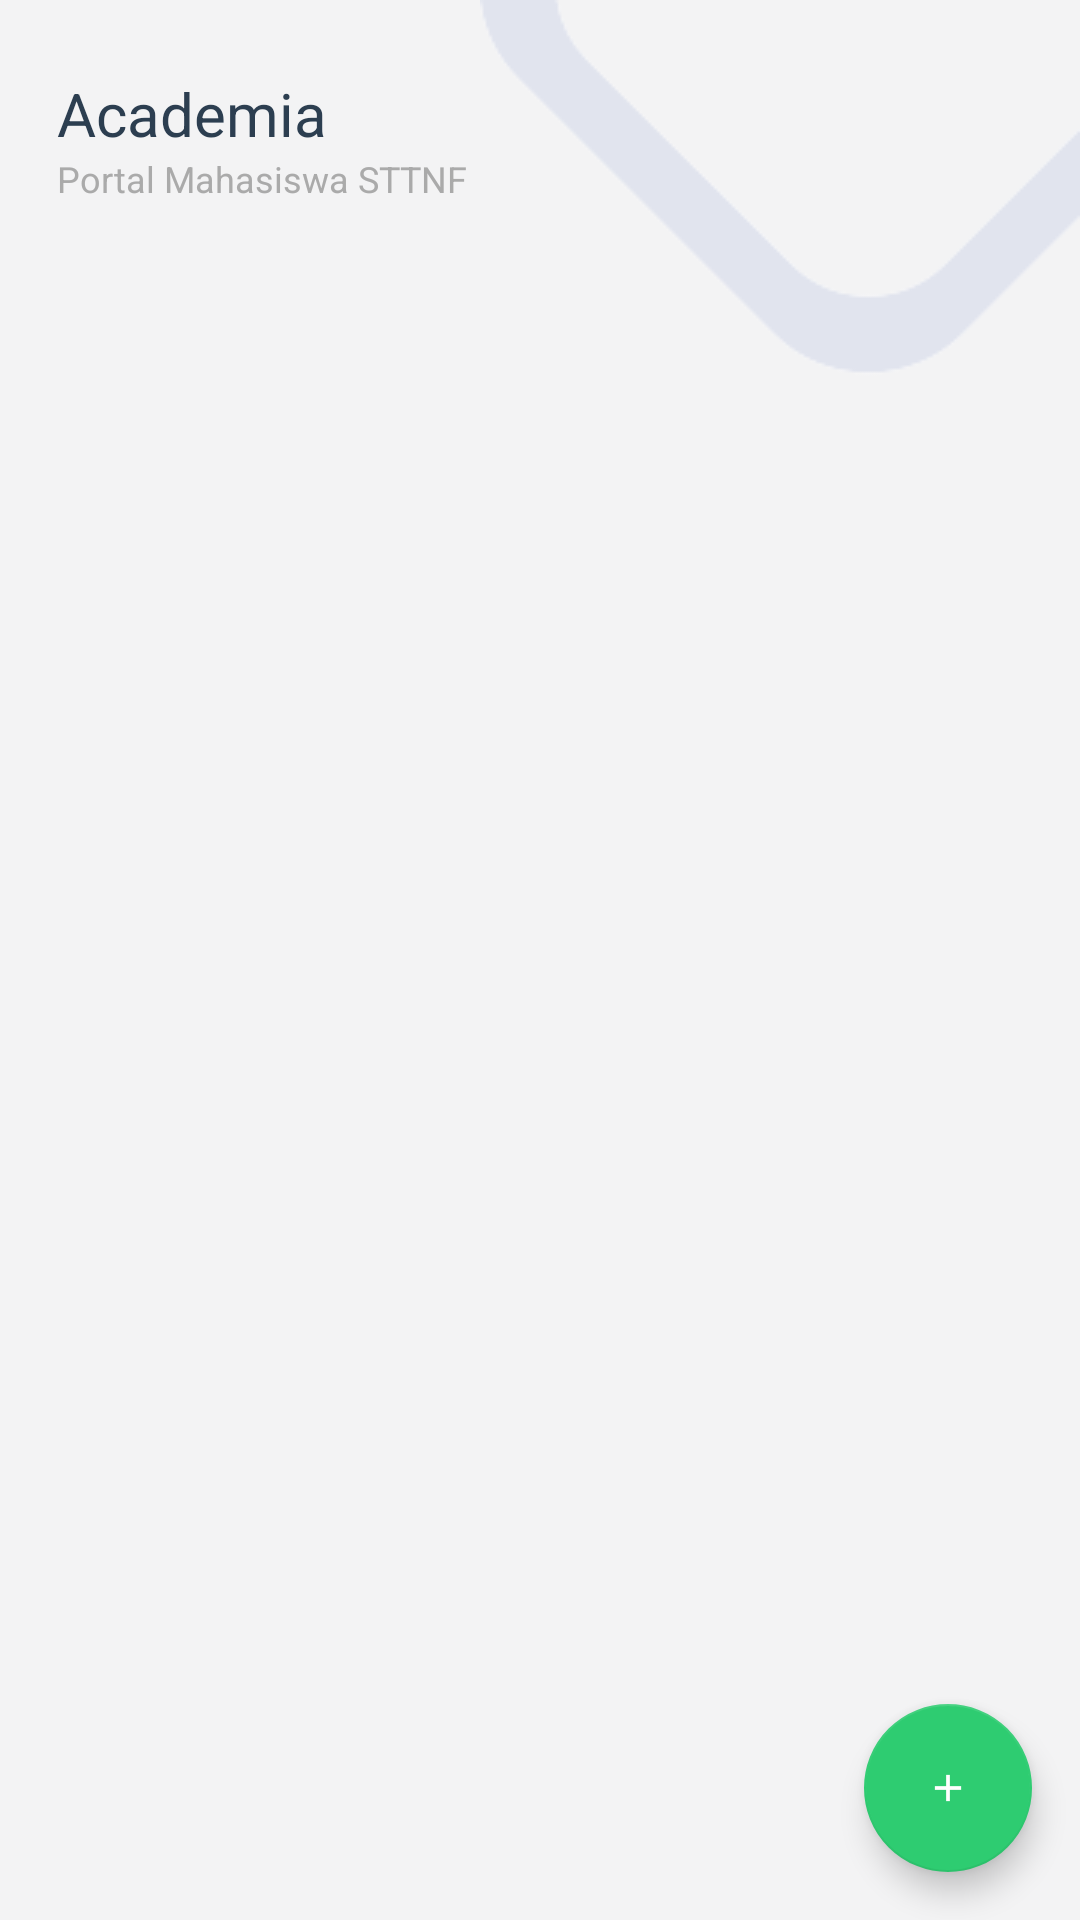

Icon bounding boxes for this 1080 x 1920 phone screenshot, format (left=x1, top=y1, right=x2, bottom=y2):
float plus: (left=864, top=1704, right=1032, bottom=1872)
